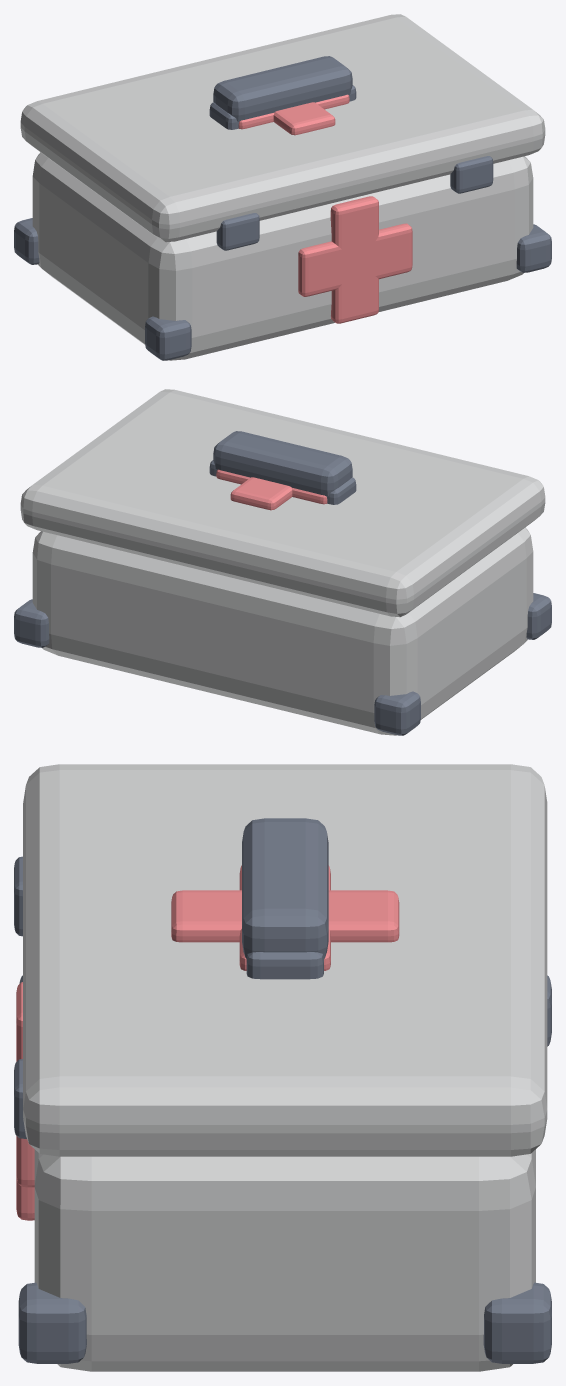
Rendered from med_kit.glb.
3 views of the same model, one above another, from view 1: azimuth 30°, elevation 25°; view 2: azimuth 150°, elevation 25°; view 3: azimuth 270°, elevation 25° (orthographic). The views are drawn at different scales.
Parts seen in each view (by area): view 1: WPN_Med_Lid.001, WPN_Med_Body.001, WPN_Med_Handle.001, WPN_Med_CrossH.001, WPN_Med_CrossV.001, WPN_Med_Bumper-1-1.001, WPN_Med_TopCrossV.001, WPN_Med_Bumper1-1.001, WPN_Med_Latch1.001, WPN_Med_Latch-1.001, WPN_Med_Bumper-11.001, WPN_Med_TopCrossH.001 (+1 smaller); view 2: WPN_Med_Lid.001, WPN_Med_Body.001, WPN_Med_Handle.001, WPN_Med_Bumper-11.001, WPN_Med_TopCrossV.001, WPN_Med_Bumper11.001, WPN_Med_Bumper-1-1.001, WPN_Med_TopCrossH.001, WPN_Med_HandleLeg1.001; view 3: WPN_Med_Lid.001, WPN_Med_Body.001, WPN_Med_Handle.001, WPN_Med_TopCrossV.001, WPN_Med_Bumper1-1.001, WPN_Med_Bumper11.001, WPN_Med_HandleLeg2.001, WPN_Med_CrossV.001, WPN_Med_CrossH.001, WPN_Med_Latch1.001.
Part boxes in pixels (box(x1,y1,x2,y2)): WPN_Med_Lid.001: box(20, 14, 545, 242); WPN_Med_Body.001: box(32, 152, 533, 360); WPN_Med_Handle.001: box(213, 56, 352, 121); WPN_Med_CrossH.001: box(298, 223, 412, 296); WPN_Med_CrossV.001: box(330, 196, 378, 323); WPN_Med_Bumper-1-1.001: box(145, 316, 191, 360); WPN_Med_TopCrossV.001: box(273, 102, 335, 135); WPN_Med_Bumper1-1.001: box(516, 224, 551, 272); WPN_Med_Latch1.001: box(450, 156, 493, 193); WPN_Med_Latch-1.001: box(216, 213, 259, 250); WPN_Med_Bumper-11.001: box(14, 218, 39, 264); WPN_Med_TopCrossH.001: box(238, 94, 349, 129); WPN_Med_Lid.001: box(20, 389, 545, 617); WPN_Med_Body.001: box(32, 527, 533, 735); WPN_Med_Handle.001: box(213, 431, 352, 496); WPN_Med_Bumper-11.001: box(374, 691, 420, 735); WPN_Med_TopCrossV.001: box(230, 477, 292, 510); WPN_Med_Bumper11.001: box(14, 599, 49, 647); WPN_Med_Bumper-1-1.001: box(526, 593, 551, 639); WPN_Med_TopCrossH.001: box(216, 469, 327, 504); WPN_Med_HandleLeg1.001: box(327, 477, 356, 504); WPN_Med_Lid.001: box(23, 764, 547, 1156); WPN_Med_Body.001: box(34, 1149, 535, 1371); WPN_Med_Handle.001: box(242, 818, 328, 958); WPN_Med_TopCrossV.001: box(171, 890, 399, 942); WPN_Med_Bumper1-1.001: box(18, 1282, 86, 1363); WPN_Med_Bumper11.001: box(483, 1282, 551, 1363); WPN_Med_HandleLeg2.001: box(246, 952, 323, 979); WPN_Med_CrossV.001: box(16, 982, 34, 1220); WPN_Med_CrossH.001: box(16, 1136, 34, 1187); WPN_Med_Latch1.001: box(14, 1059, 26, 1138).
Size of the model in its own units: 0.354 by 0.173 by 0.236.
